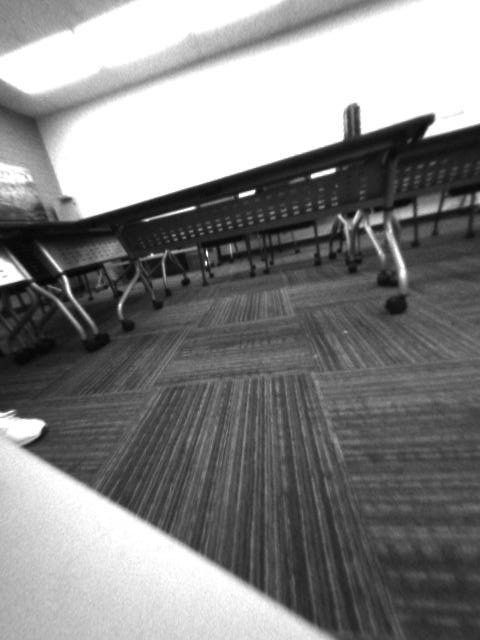can: (340, 100, 364, 144)
